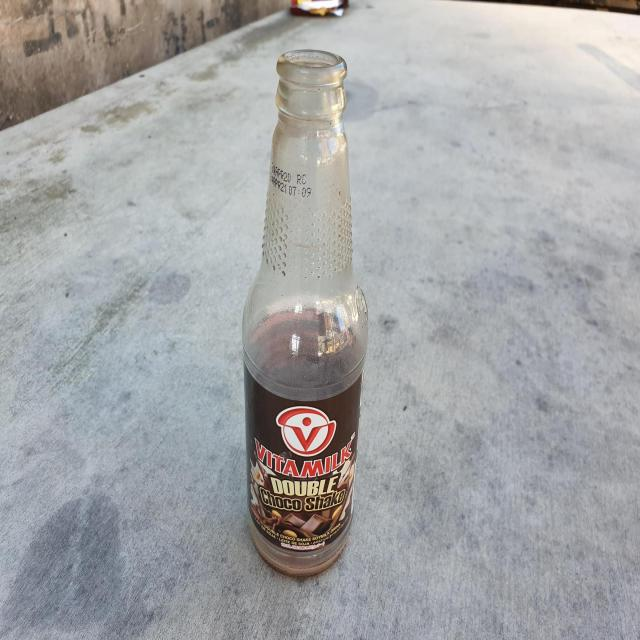glass: (243, 49, 368, 577)
